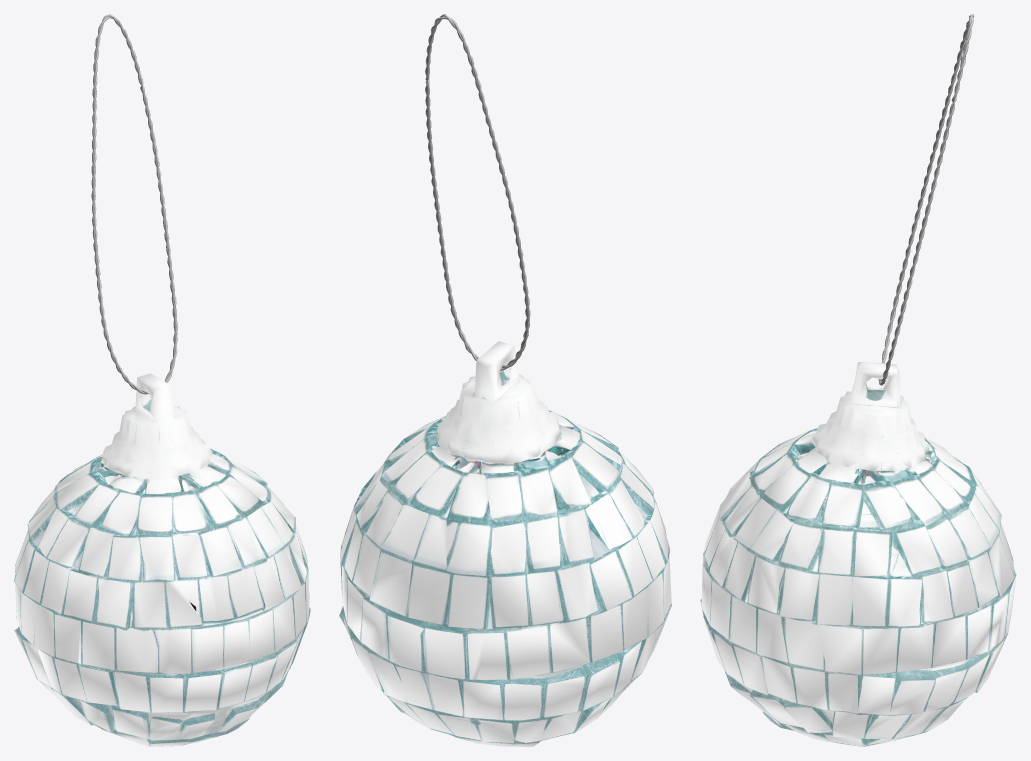
The model's file is Disco_Ball_s.glb.
3 views of the same model, side by side, from view 1: azimuth 30°, elevation 25°; view 2: azimuth 150°, elevation 25°; view 3: azimuth 270°, elevation 25° (orthographic). The views are drawn at different scales.
Visible parts, largest first — view 1: Mesh1.0, GN Instance; view 2: Mesh1.0, GN Instance; view 3: Mesh1.0, GN Instance.
Boxes of the visible parts, left/top/right/bottom form: Mesh1.0: left=14, top=373, right=310, bottom=746; GN Instance: left=91, top=14, right=177, bottom=394; Mesh1.0: left=339, top=341, right=671, bottom=746; GN Instance: left=425, top=14, right=530, bottom=370; Mesh1.0: left=700, top=361, right=1016, bottom=746; GN Instance: left=878, top=14, right=973, bottom=385.
Bounding box in the file's own units: 0.0385 × 0.0977 × 0.0389.
2 materials, 1 textured.
